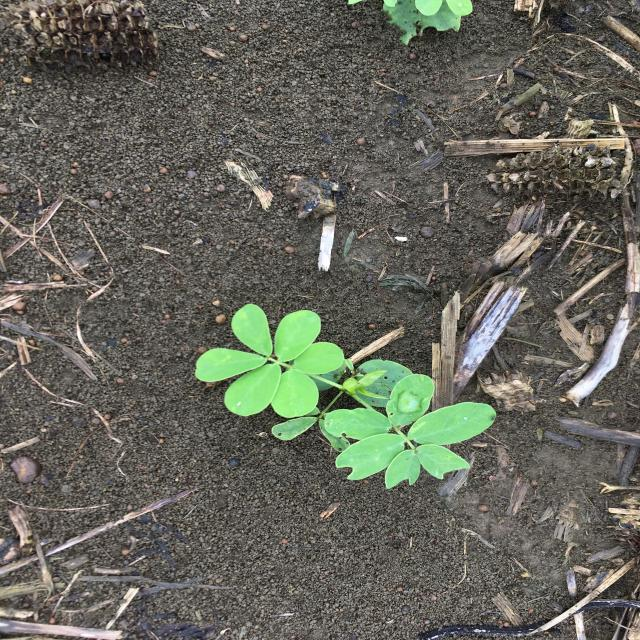MorningGlory: (194, 304, 496, 489)
